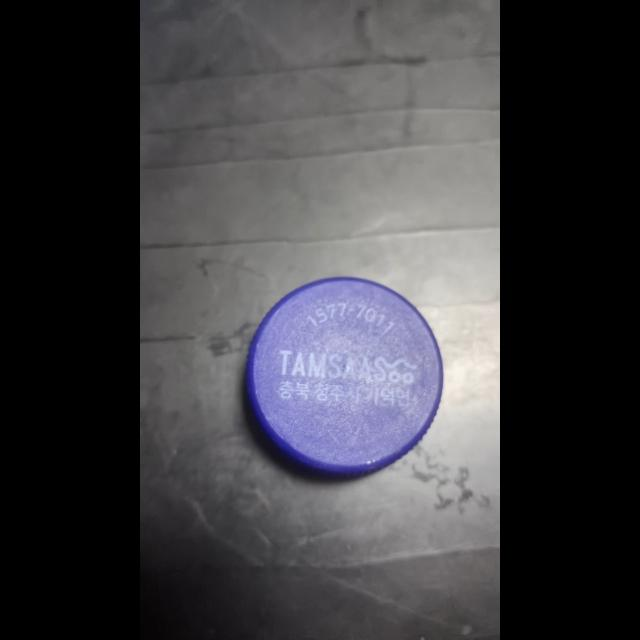plastic_bottle_cap: (244, 272, 448, 483)
